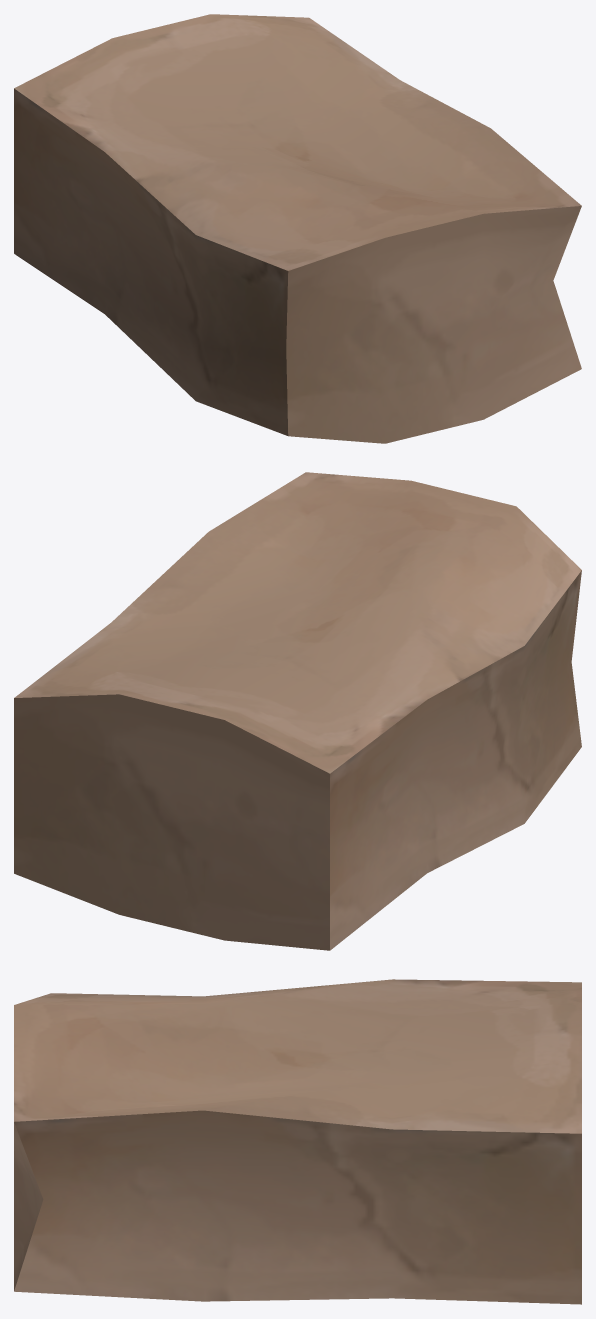
Rendered from BrickBroken.fbx.
3 renders of one model, top to bottom at view 1: azimuth 30°, elevation 25°; view 2: azimuth 150°, elevation 25°; view 3: azimuth 270°, elevation 25°, orthographic. The views are drawn at different scales.
Parts seen in each view (by area): view 1: Cube; view 2: Cube; view 3: Cube.
Part boxes in pixels (box(x1,y1,x2,y2)): Cube: box(14, 14, 581, 443); Cube: box(14, 472, 581, 950); Cube: box(14, 979, 581, 1304).
Size of the model in its own units: 23.13 by 15.42 by 37.
